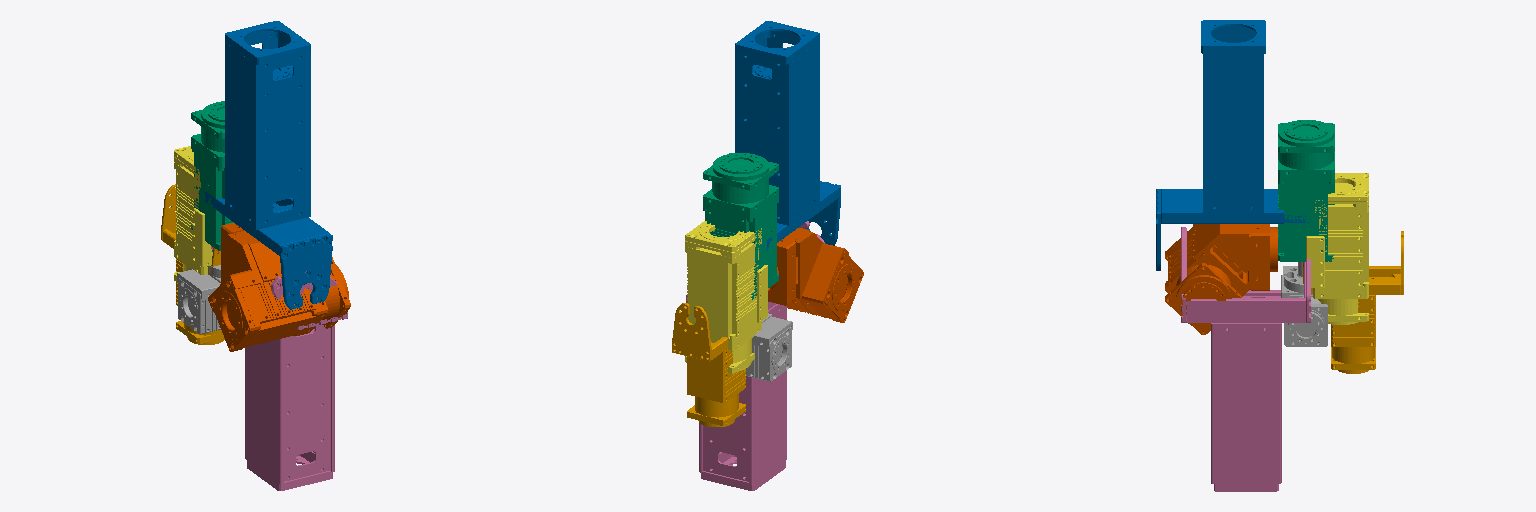
The robot description file, URDF, robot "panda":
<?xml version="1.0" encoding="utf-8"?>
<!-- =================================================================================== -->
<!-- |    This document was autogenerated by xacro from ../../../franka_panda_description/robots/panda_arm.urdf.xacro | -->
<!-- |    EDITING THIS FILE BY HAND IS NOT RECOMMENDED                                 | -->
<!-- =================================================================================== -->
<robot name="panda">

  <link name="world"/>

  <joint name="world_fixed" type="fixed">
    <parent link="world"/>
    <child link="panda_link0"/>
  </joint>

  <link name="panda_link0">
    <visual>
      <geometry>
        <mesh filename="meshes/visual/link0.stl"/>
      </geometry>
      <material name="panda_gray"/>
    </visual>
    <collision>
      <geometry>
        <mesh filename="meshes/collision/link0.stl"/>
      </geometry>
    </collision>
    <inertial>
        <origin rpy="0 0 0" xyz="0 0 0"/>
        <mass value="3.06"/>
        <inertia ixx="0.3" ixy="0.0" ixz="0.0" iyy="0.3" iyz="0" izz="0.3"/>    
    </inertial>
  </link>
  <link name="panda_link1">
    <visual>
      <geometry>
        <mesh filename="meshes/visual/link1.stl"/>
      </geometry>
    </visual>
    <collision>
      <geometry>
        <mesh filename="meshes/collision/link1.stl"/>
      </geometry>
    </collision>
    <inertial>
      <origin rpy="0 0 0" xyz="3.875e-03 2.081e-03 -0.1750"/>
      <mass value="4.970684"/>
      <inertia ixx="7.0337e-01" ixy="-1.3900e-04" ixz="6.7720e-03" iyy="7.0661e-01" iyz="1.9169e-02" izz="9.1170e-03"/>
    </inertial>
  </link>
  <joint name="panda_joint1" type="revolute">
    <safety_controller k_position="100.0" k_velocity="40.0" soft_lower_limit="-2.8973" soft_upper_limit="2.8973"/>
    <origin rpy="0 0 0" xyz="0 0 0.333"/>
    <parent link="panda_link0"/>
    <child link="panda_link1"/>
    <axis xyz="0 0 1"/>
    <limit effort="87" lower="-2.8973" upper="2.8973" velocity="2.1750"/>
    <dynamics damping="10.0" friction="5.0"/>
  </joint>
  <link name="panda_link2">
    <visual>
      <geometry>
        <mesh filename="meshes/visual/link2.stl"/>
      </geometry>
    </visual>
    <collision>
      <geometry>
        <mesh filename="meshes/collision/link2.stl"/>
      </geometry>
    </collision>
    <inertial>
      <origin rpy="0 0 0" xyz="-3.141e-03 -2.872e-02 3.495e-03"/>
      <mass value="0.646926"/>
      <inertia ixx="7.9620e-03" ixy="-3.9250e-03" ixz="1.0254e-02" iyy="2.8110e-02" iyz="7.0400e-04" izz="2.5995e-02"/>
    </inertial>
  </link>
  <joint name="panda_joint2" type="revolute">
    <safety_controller k_position="100.0" k_velocity="40.0" soft_lower_limit="-1.7628" soft_upper_limit="1.7628"/>
    <origin rpy="-1.57079632679 0 0" xyz="0 0 0"/>
    <parent link="panda_link1"/>
    <child link="panda_link2"/>
    <axis xyz="0 0 1"/>
    <limit effort="87" lower="-1.7628" upper="1.7628" velocity="2.1750"/>
    <dynamics damping="5.0" friction="2.0"/>
  </joint>
  <link name="panda_link3">
    <visual>
      <geometry>
        <mesh filename="meshes/visual/link3.stl"/>
      </geometry>
    </visual>
    <collision>
      <geometry>
        <mesh filename="meshes/collision/link3.stl"/>
      </geometry>
    </collision>
    <inertial>
      <origin rpy="0 0 0" xyz="2.7518e-02 3.9252e-02 -6.6502e-02"/>
      <mass value="3.228604"/>
      <inertia ixx="3.7242e-02" ixy="-4.7610e-03" ixz="-1.1396e-02" iyy="3.6155e-02" iyz="-1.2805e-02" izz="1.0830e-02"/>
    </inertial>
  </link>
  <joint name="panda_joint3" type="revolute">
    <safety_controller k_position="100.0" k_velocity="40.0" soft_lower_limit="-2.8973" soft_upper_limit="2.8973"/>
    <origin rpy="1.57079632679 0 0" xyz="0 -0.316 0"/>
    <parent link="panda_link2"/>
    <child link="panda_link3"/>
    <axis xyz="0 0 1"/>
    <limit effort="87" lower="-2.8973" upper="2.8973" velocity="2.1750"/>
    <dynamics damping="5.0" friction="2.0"/>
  </joint>
  <link name="panda_link4">
    <visual>
      <geometry>
        <mesh filename="meshes/visual/link4.stl"/>
      </geometry>
    </visual>
    <collision>
      <geometry>
        <mesh filename="meshes/collision/link4.stl"/>
      </geometry>
    </collision>
    <inertial>
      <origin rpy="0 0 0" xyz="-5.317e-02 1.04419e-01 2.7454e-02"/>
      <mass value="3.587895"/>
      <inertia ixx="2.5853e-02" ixy="7.7960e-03" ixz="-1.3320e-03" iyy="1.9552e-02" iyz="8.6410e-03" izz="2.8323e-02"/>
    </inertial>
  </link>
  <joint name="panda_joint4" type="revolute">
    <safety_controller k_position="100.0" k_velocity="40.0" soft_lower_limit="-3.0718" soft_upper_limit="-0.0698"/>
    <origin rpy="1.57079632679 0 0" xyz="0.0825 0 0"/>
    <parent link="panda_link3"/>
    <child link="panda_link4"/>
    <axis xyz="0 0 1"/>
    <limit effort="87" lower="-3.0718" upper="-0.0698" velocity="2.1750"/>
    <dynamics damping="1.0" friction="0.5"/>
  </joint>
  <link name="panda_link5">
    <visual>
      <geometry>
        <mesh filename="meshes/visual/link5.stl"/>
      </geometry>
    </visual>
    <collision>
      <geometry>
        <mesh filename="meshes/collision/link5.stl"/>
      </geometry>
    </collision>
    <inertial>
      <origin rpy="0 0 0" xyz="-1.1953e-02 4.1065e-02 -3.8437e-02"/>
      <mass value="1.225946"/>
      <inertia ixx="3.5549e-02" ixy="-2.1170e-03" ixz="-4.0370e-03" iyy="2.9474e-02" iyz="2.2900e-04" izz="8.6270e-03"/>
    </inertial>
  </link>
  <joint name="panda_joint5" type="revolute">
    <safety_controller k_position="100.0" k_velocity="40.0" soft_lower_limit="-2.8973" soft_upper_limit="2.8973"/>
    <origin rpy="-1.57079632679 0 0" xyz="-0.0825 0.384 0"/>
    <parent link="panda_link4"/>
    <child link="panda_link5"/>
    <axis xyz="0 0 1"/>
    <limit effort="12" lower="-2.8973" upper="2.8973" velocity="2.6100"/>
    <dynamics damping="2.0" friction="1.0"/>
  </joint>
  <link name="panda_link6">
    <visual>
      <geometry>
        <mesh filename="meshes/visual/link6.stl"/>
      </geometry>
    </visual>
    <collision>
      <geometry>
        <mesh filename="meshes/collision/link6.stl"/>
      </geometry>
    </collision>
    <inertial>
      <origin rpy="0 0 0" xyz="6.0149e-02 -1.4117e-02 -1.0517e-02"/>
      <mass value="1.666555"/>
      <inertia ixx="1.9640e-03" ixy="1.0900e-04" ixz="-1.1580e-03" iyy="4.3540e-03" iyz="3.4100e-04" izz="5.4330e-03"/>
    </inertial>
  </link>
  <joint name="panda_joint6" type="revolute">
    <safety_controller k_position="100.0" k_velocity="40.0" soft_lower_limit="-0.0175" soft_upper_limit="3.7525"/>
    <origin rpy="1.57079632679 0 0" xyz="0 0 0"/>
    <parent link="panda_link5"/>
    <child link="panda_link6"/>
    <axis xyz="0 0 1"/>
    <limit effort="12" lower="-0.0175" upper="3.7525" velocity="2.6100"/>
    <dynamics damping="1.0" friction="0.5"/>
  </joint>
  <link name="panda_link7">
    <visual>
      <geometry>
        <mesh filename="meshes/visual/link7.stl"/>
      </geometry>
      <material name="panda_gray"/>
    </visual>
    <collision>
      <geometry>
        <mesh filename="meshes/collision/link7.stl"/>
      </geometry>
    </collision>
    <inertial>
      <origin rpy="0 0 0" xyz="1.0517e-02 -4.252e-03 6.1597e-02"/>
      <mass value="7.35522e-01"/>
      <inertia ixx="1.2516e-02" ixy="-4.2800e-04" ixz="-1.1960e-03" iyy="1.0027e-02" iyz="-7.4100e-04" izz="4.8150e-03"/>
    </inertial>
  </link>
  <joint name="panda_joint7" type="revolute">
    <safety_controller k_position="100.0" k_velocity="40.0" soft_lower_limit="-2.8973" soft_upper_limit="2.8973"/>
    <origin rpy="1.57079632679 0 0" xyz="0.088 0 0"/>
    <parent link="panda_link6"/>
    <child link="panda_link7"/>
    <axis xyz="0 0 1"/>
    <limit effort="12" lower="-2.8973" upper="2.8973" velocity="2.6100"/>
    <dynamics damping="1.0" friction="0.5"/>
  </joint>

  <link name="tcp">
    <tcp number="0"/>
    <inertial>
      <origin xyz="0 0 0" rpy="0 0 0"/>
      <mass value="0.0000000000000000000000000000001"/>
      <inertia ixx="0.0" iyy="0.0" izz="0.0" ixy="+0.0" iyz="+0.0" ixz="-0.0"/>
    </inertial>
  </link>

  <joint name="tcp" type="fixed">
    <parent link="panda_link7"/>
    <child link="tcp"/>
    <origin xyz="0 0 0.107" rpy="0 0 -1.57"/>
  </joint>
  
  <!-- <link name=“tcp”>
		<tcp number=“0”/>
		<inertial>
			<origin xyz=“0 0 0" rpy=“0 0 0” />
			<mass value=“0.0000000000000000000000000000001"/>
			<inertia ixx=“0.0” iyy=“0.0" izz=“0.0” ixy=“+0.0" iyz=“+0.0” ixz=“-0.0"/>
		</inertial>
	</link>

  <joint name=“tcp” type=“fixed”>
		<parent link=panda_link7/>
		<child link=“tcp”/>
		<origin xyz=“0 0 0.107” rpy=“0 0 0"/>
	</joint> -->


</robot>

--- What the picture shows (computed from the rendered views, not written in the file) ---
Views: 3 orthographic renders of the robot side by side, from view 1: azimuth 30°, elevation 25°; view 2: azimuth 150°, elevation 25°; view 3: azimuth 270°, elevation 25°.
Robot: panda — 10 links, 9 joints (7 revolute, 2 fixed); root link world; default pose: all joints at 0 but 1 set to mid-range because 0 is outside their limits (panda_joint4 = -1.57).
Visible links, largest first — view 1: panda_link3, panda_link5, panda_link4, panda_link1, panda_link2, panda_link6, panda_link7; view 2: panda_link3, panda_link2, panda_link5, panda_link1, panda_link4, panda_link7, panda_link6; view 3: panda_link5, panda_link3, panda_link4, panda_link2, panda_link1, panda_link7, panda_link6.
Link boxes in pixels (x1=…): panda_link3: x1=203, y1=21, x2=332, y2=309; panda_link5: x1=211, y1=246, x2=347, y2=490; panda_link4: x1=208, y1=223, x2=350, y2=351; panda_link1: x1=191, y1=101, x2=233, y2=250; panda_link2: x1=174, y1=146, x2=212, y2=282; panda_link6: x1=177, y1=265, x2=220, y2=334; panda_link7: x1=161, y1=184, x2=224, y2=344; panda_link3: x1=735, y1=21, x2=840, y2=250; panda_link2: x1=685, y1=221, x2=767, y2=373; panda_link5: x1=686, y1=221, x2=824, y2=490; panda_link1: x1=703, y1=153, x2=778, y2=299; panda_link4: x1=768, y1=228, x2=863, y2=322; panda_link7: x1=672, y1=303, x2=745, y2=426; panda_link6: x1=746, y1=313, x2=792, y2=381; panda_link5: x1=1181, y1=227, x2=1310, y2=491; panda_link3: x1=1156, y1=20, x2=1308, y2=270; panda_link4: x1=1165, y1=224, x2=1303, y2=334; panda_link2: x1=1306, y1=173, x2=1368, y2=324; panda_link1: x1=1278, y1=120, x2=1334, y2=261; panda_link7: x1=1303, y1=231, x2=1403, y2=373; panda_link6: x1=1281, y1=262, x2=1327, y2=346.
Size in the robot's own frame: 116 by 236 by 454 metres.
7 mesh visuals loaded from 8 distinct referenced files (7 binary STL); not drawn: 1 (reference not matched to a file when rendering).
